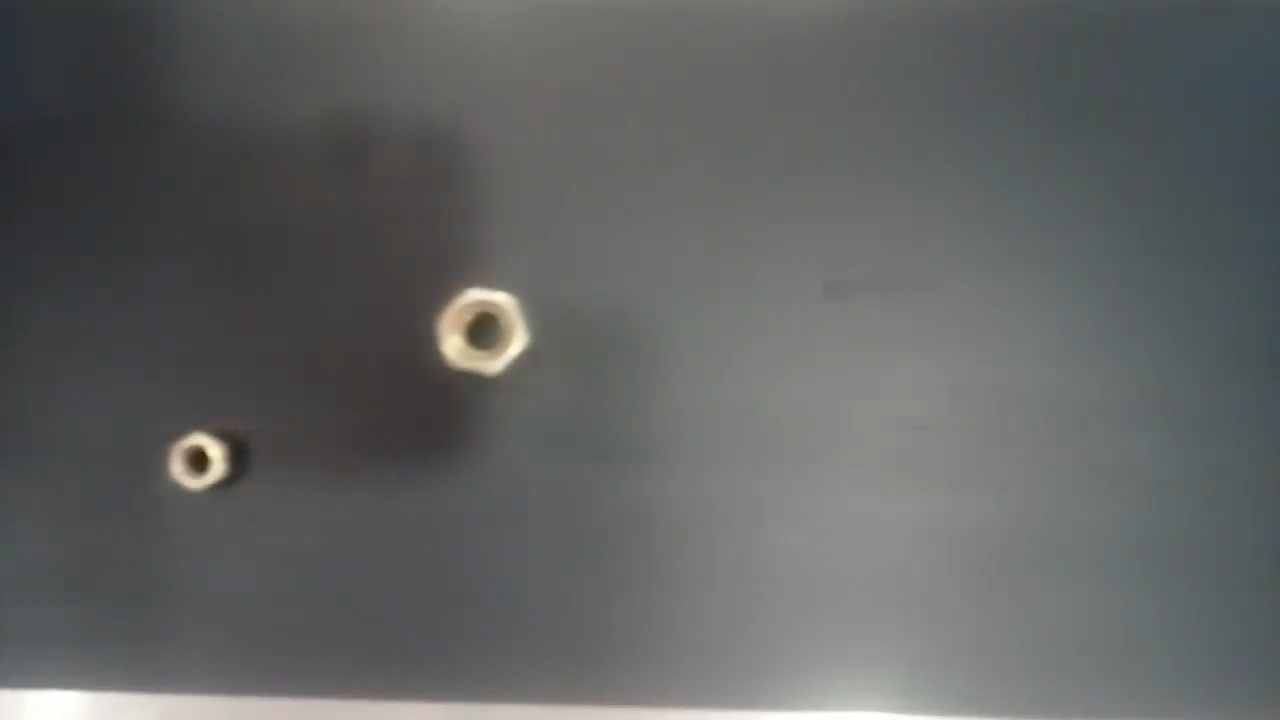Bolt: (432, 284, 533, 380), (163, 428, 236, 495)
